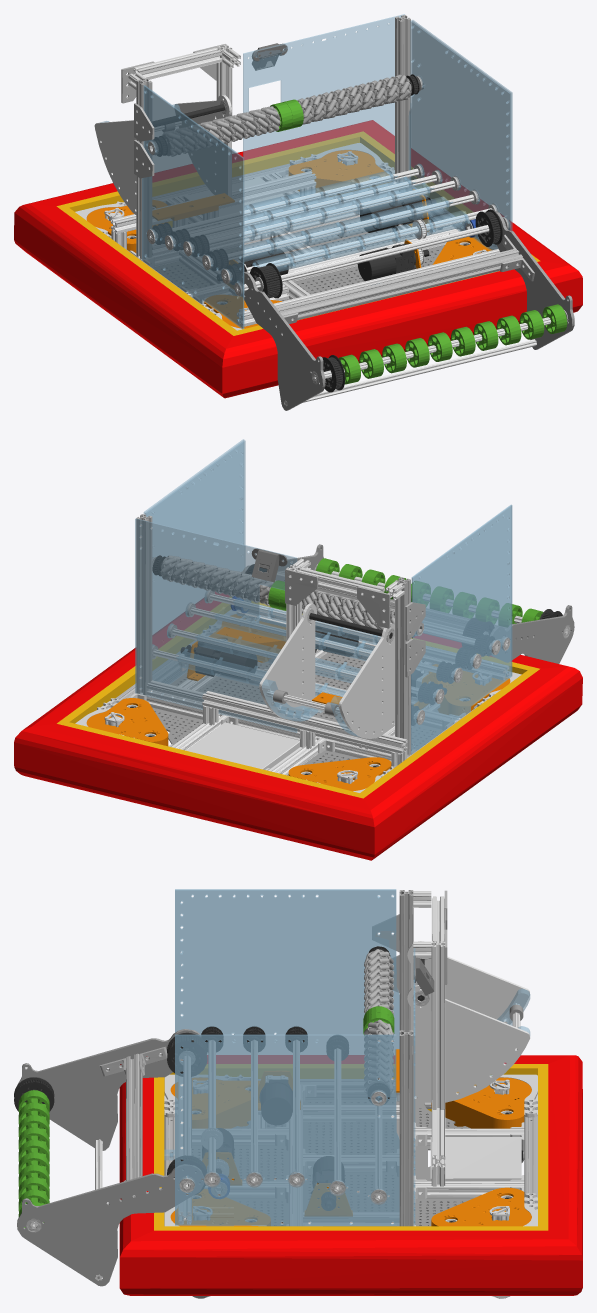
Rendered from robot.glb.
The picture shows the model from 3 angles, top to bottom: view 1: azimuth 30°, elevation 25°; view 2: azimuth 150°, elevation 25°; view 3: azimuth 270°, elevation 25°; orthographic projection. The views are drawn at different scales.
Parts seen in each view (by area): view 1: Sturdy Mount (×4), Bumper soft part, Part 1 (×3), Test Roller (×23), 1/2" Churro (25" L, 6061 Aluminum) (×5), Hinging Side Panel (×2), Bumper Wood, 2.25" Compliant Wheel (35A, 1" Wide, 1/2" Hex Bore) (×9), Side V2 (×2), Swerve Cover (×4), Hopper Height Extrusion (×2), 1/2" Churro (1" L, 6061 Aluminum) (×3) (+16 smaller); view 2: Sturdy Mount (×4), Bumper soft part, Part 1 (×5), Side V2 (×2), Swerve Cover (×4), Bumper Wood, Hopper Height Extrusion (×2), electronics back panel v1, 1/2" Churro (25" L, 6061 Aluminum) (×4), Test Roller (×6), Robot Battery, 1" Aluminum Extrusion (18.5" L, Clear Anodized) (+12 smaller); view 3: Sturdy Mount (×4), Bumper soft part, Hinging Side Panel (×2), Side V2 (×2), Swerve Cover (×4), electronics back panel v1, Bumper Wood, Hopper Height Extrusion (×2), 1/2" Churro (25" L, 6061 Aluminum) (×5), 8 in (×4), Robot Battery, 19" Extrusion (×3) (+16 smaller).
Part boxes in pixels (x1,y1,x2,y2): Sturdy Mount (×4): (142, 20, 512, 329); Bumper soft part: (14, 120, 582, 398); Part 1 (×3): (134, 14, 404, 209); Test Roller (×23): (249, 170, 467, 268); 1/2" Churro (25" L, 6061 Aluminum) (×5): (149, 168, 492, 279); Hinging Side Panel (×2): (239, 211, 574, 410); Bumper Wood: (56, 131, 540, 335); 2.25" Compliant Wheel (35A, 1" Wide, 1/2" Hex Bore) (×9): (359, 304, 567, 378); Side V2 (×2): (94, 94, 232, 214); Swerve Cover (×4): (86, 150, 491, 328); Hopper Height Extrusion (×2): (136, 15, 410, 259); 1/2" Churro (1" L, 6061 Aluminum) (×3): (236, 225, 551, 406); Sturdy Mount (×4): (143, 439, 512, 754); Bumper soft part: (14, 592, 582, 860); Part 1 (×5): (135, 518, 425, 732); Side V2 (×2): (259, 603, 394, 738); Swerve Cover (×4): (86, 615, 510, 791); Bumper Wood: (57, 597, 539, 798); Hopper Height Extrusion (×2): (136, 514, 410, 756); electronics back panel v1: (152, 652, 442, 764); 1/2" Churro (25" L, 6061 Aluminum) (×4): (153, 593, 479, 720); Test Roller (×6): (179, 609, 360, 683); Robot Battery: (186, 722, 299, 769); 1" Aluminum Extrusion (18.5" L, Clear Anodized): (202, 691, 407, 754); Sturdy Mount (×4): (175, 889, 399, 1226); Bumper soft part: (119, 1055, 582, 1295); Hinging Side Panel (×2): (17, 1029, 203, 1286); Side V2 (×2): (407, 941, 530, 1102); Swerve Cover (×4): (170, 1077, 531, 1226); electronics back panel v1: (192, 1100, 472, 1226); Bumper Wood: (154, 1064, 548, 1230); Hopper Height Extrusion (×2): (399, 890, 413, 1226); 1/2" Churro (25" L, 6061 Aluminum) (×5): (208, 1040, 382, 1199); 8 in (×4): (192, 1128, 524, 1198); Robot Battery: (430, 1137, 521, 1181); 19" Extrusion (×3): (164, 1079, 537, 1197).
Bounding box in the file's own units: 0.8509 × 0.5462 × 1.04.
